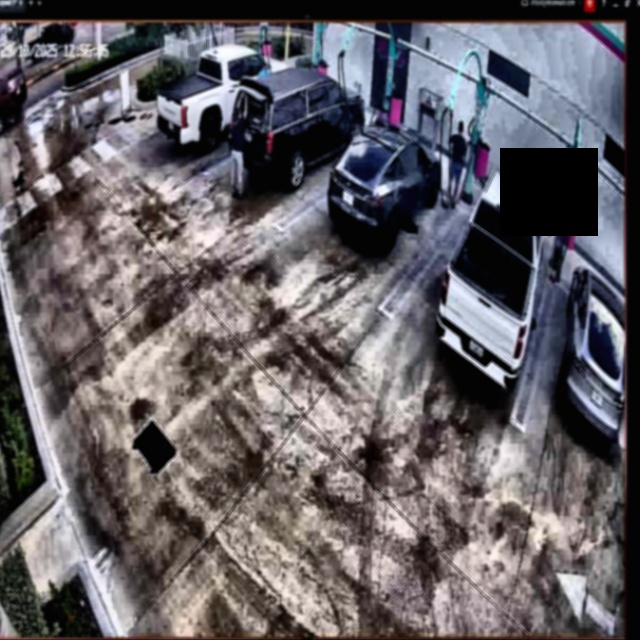Car: (436, 169, 548, 384), (232, 68, 364, 188), (330, 119, 442, 254)
